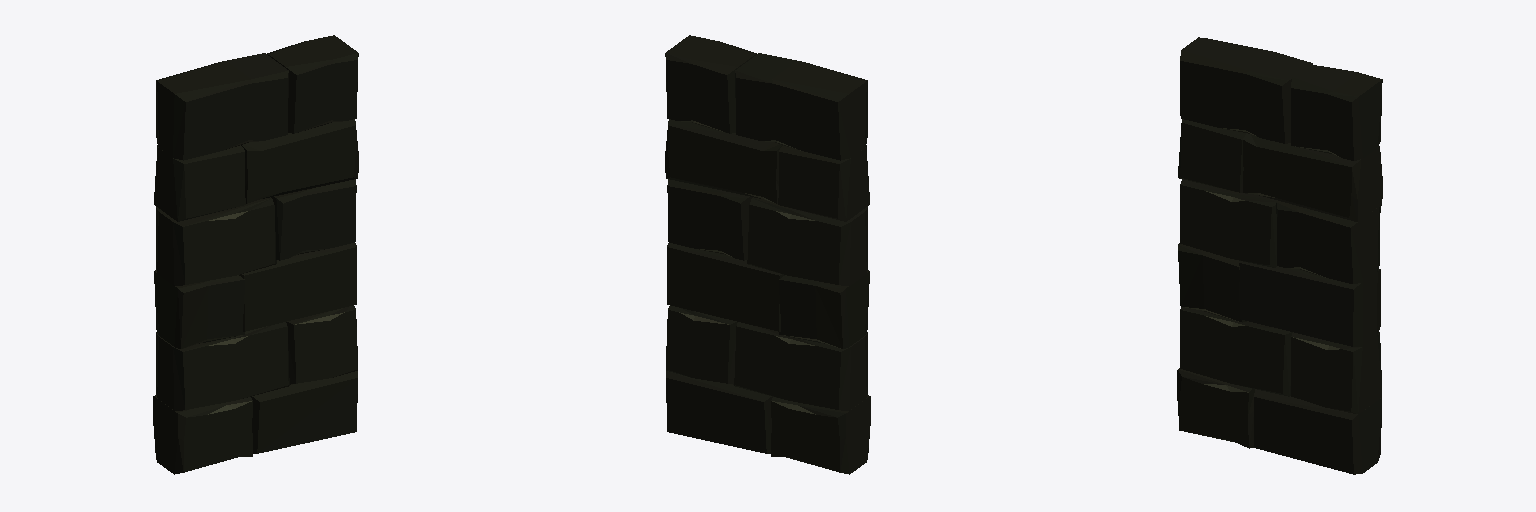
Rendered from Wall_Half.obj.
3 views of the same model, side by side, from view 1: azimuth 30°, elevation 25°; view 2: azimuth 150°, elevation 25°; view 3: azimuth 330°, elevation 25° (orthographic).
Parts seen in each view (by area): view 1: Wall_Half_Cube.960; view 2: Wall_Half_Cube.960; view 3: Wall_Half_Cube.960.
Part boxes in pixels (x1,y1,x2,y2): Wall_Half_Cube.960: (153,35,358,474); Wall_Half_Cube.960: (665,35,870,474); Wall_Half_Cube.960: (1177,37,1382,474).
Size of the model in its own units: 0.9961 by 2 by 0.2856.